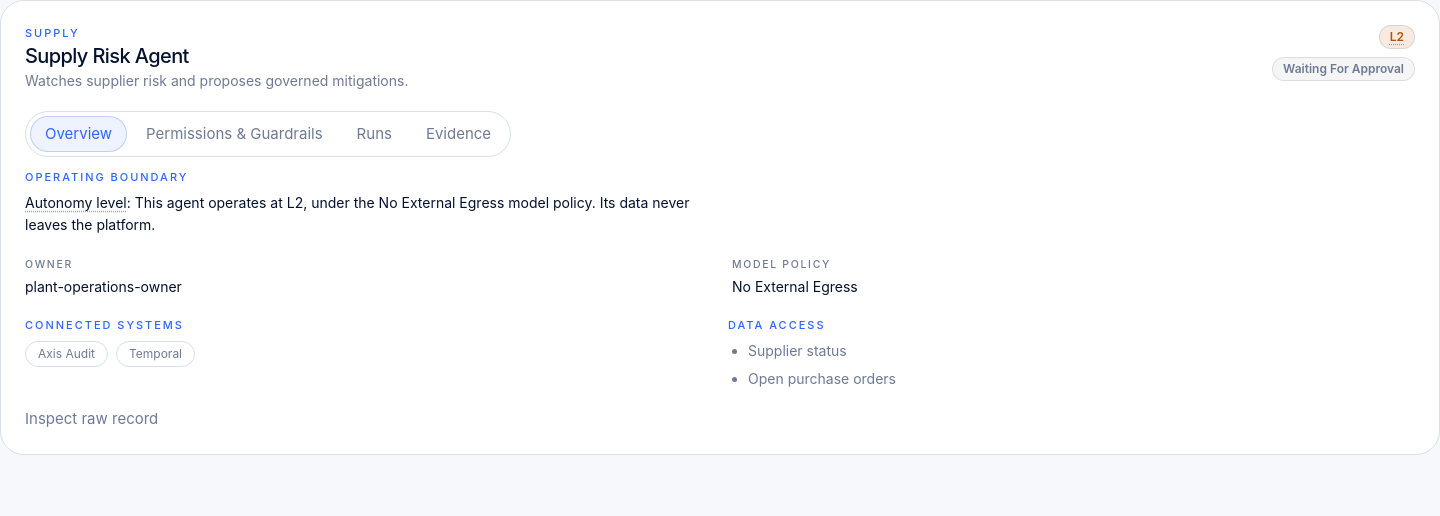
Test: AgentDetail runs tab › only loads runs once the Runs tab is selected
Check: the text "run_fixture_001" is not shown
Click the tab "Runs" at (374,134), box [342,116,407,152]
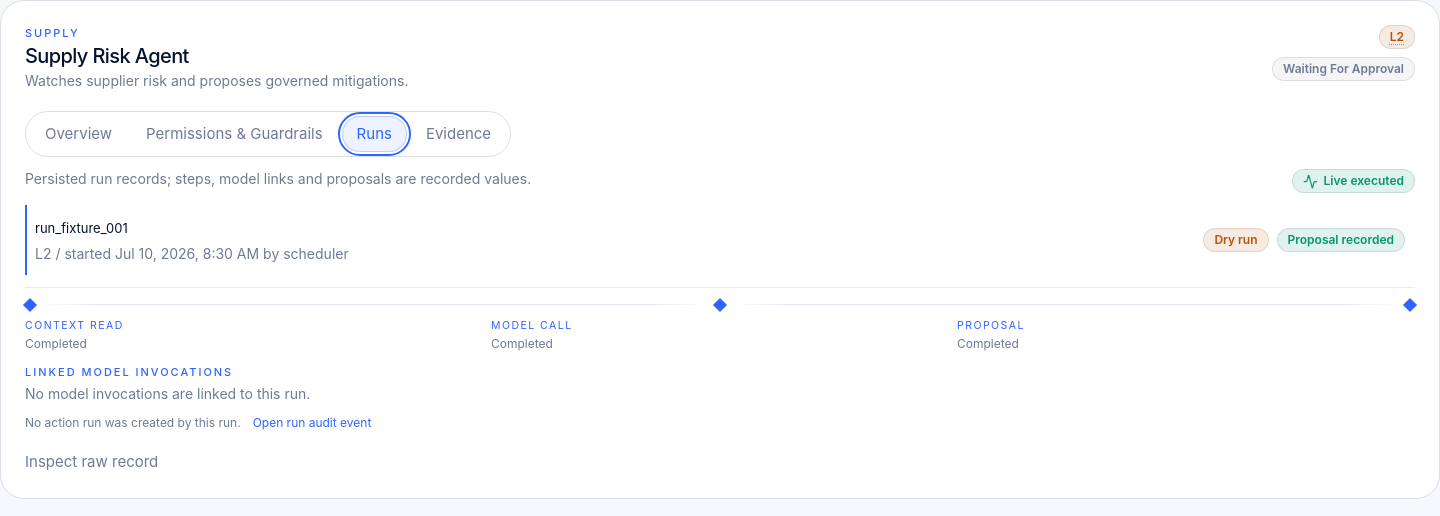
Check: the text "run_fixture_001" is shown, box [35,220,128,236]
Check: the text "Context read" is shown, box [25,319,124,332]
Check: the text "Model call" is shown, box [491,319,573,332]
